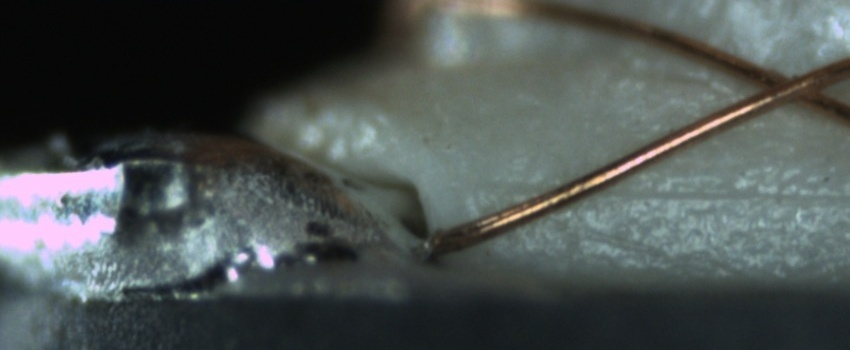CL: (731, 57, 830, 116)
DL: (473, 159, 849, 224)
